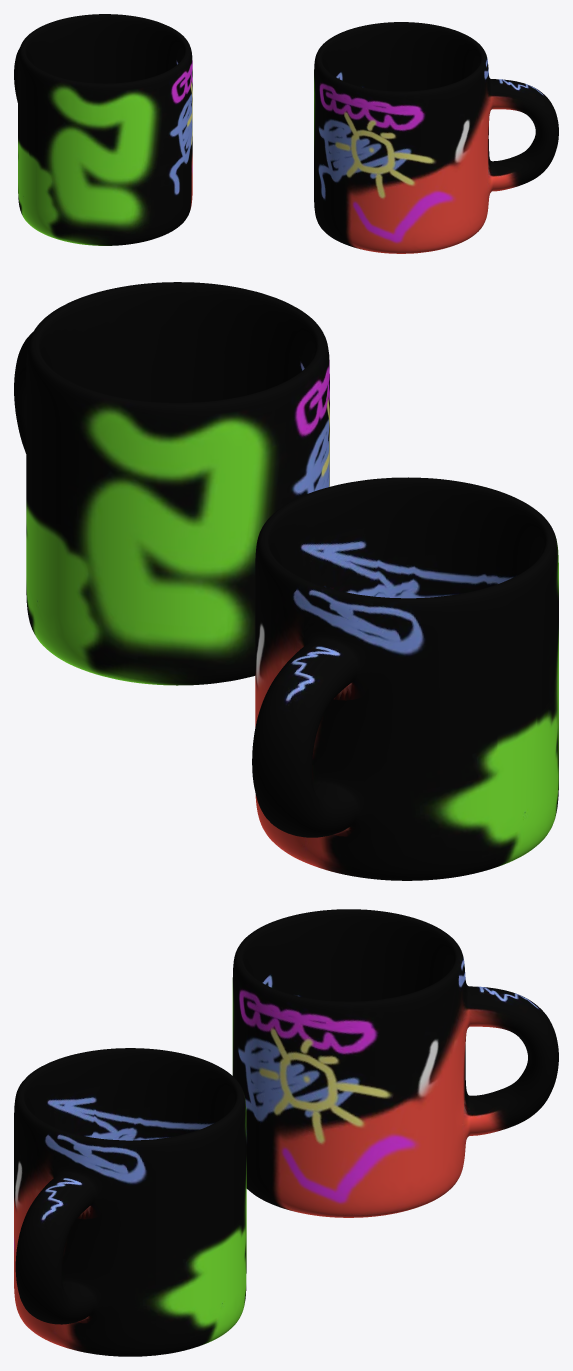
The model's file is painted-mug.glb.
3 renders of one model, top to bottom at view 1: azimuth 30°, elevation 25°; view 2: azimuth 150°, elevation 25°; view 3: azimuth 270°, elevation 25°, orthographic. The views are drawn at different scales.
Visible parts, largest first — view 1: Cylinder_Material_0; view 2: Cylinder_Material_0; view 3: Cylinder_Material_0.
Boxes of the visible parts, x1=… form: Cylinder_Material_0: x1=14, y1=14, x2=558, y2=253; Cylinder_Material_0: x1=14, y1=282, x2=558, y2=880; Cylinder_Material_0: x1=14, y1=909, x2=558, y2=1356.
Size of the model in its own units: 0.2376 by 0.09 by 0.204.
1 material, 1 textured.
